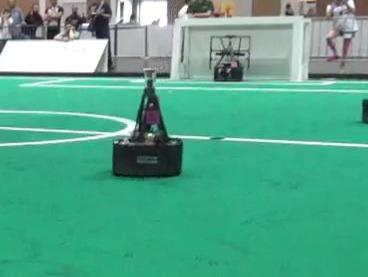robot: (109, 66, 182, 177)
